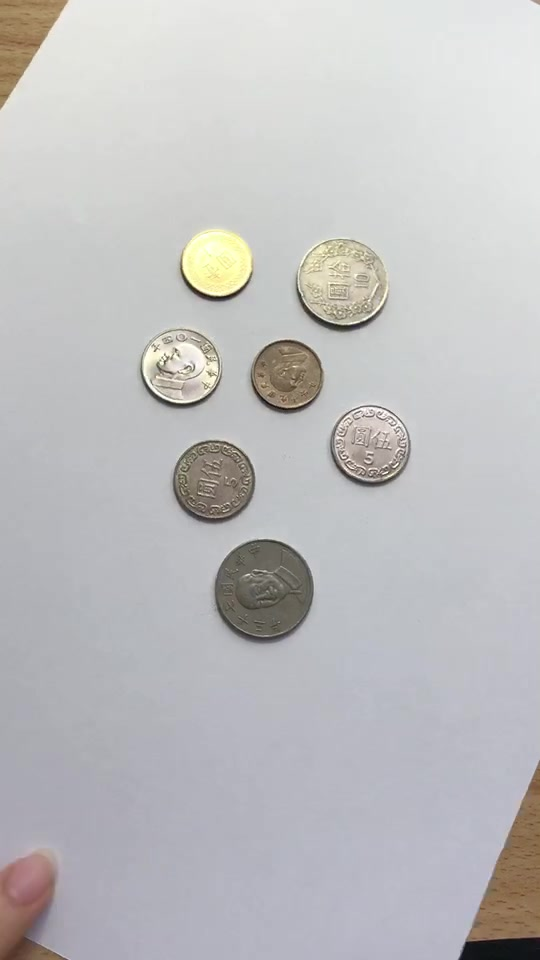1 dallar: (175, 222, 260, 303), (243, 334, 328, 415)
10 dallar: (205, 534, 324, 646), (291, 230, 398, 337)
5 dallar: (168, 437, 260, 524), (323, 401, 415, 488), (136, 323, 228, 410)
